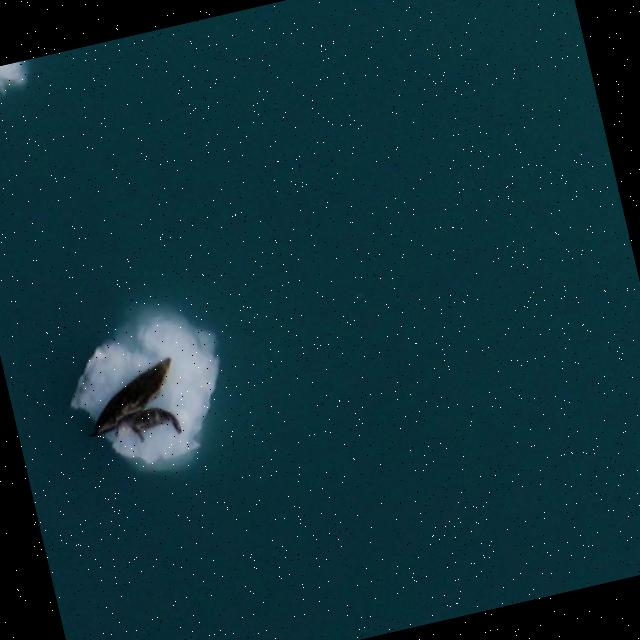seal: (92, 357, 172, 436), (118, 408, 180, 440)
